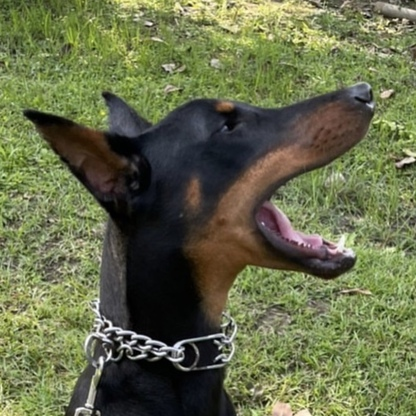doberman: (33, 78, 377, 409)
